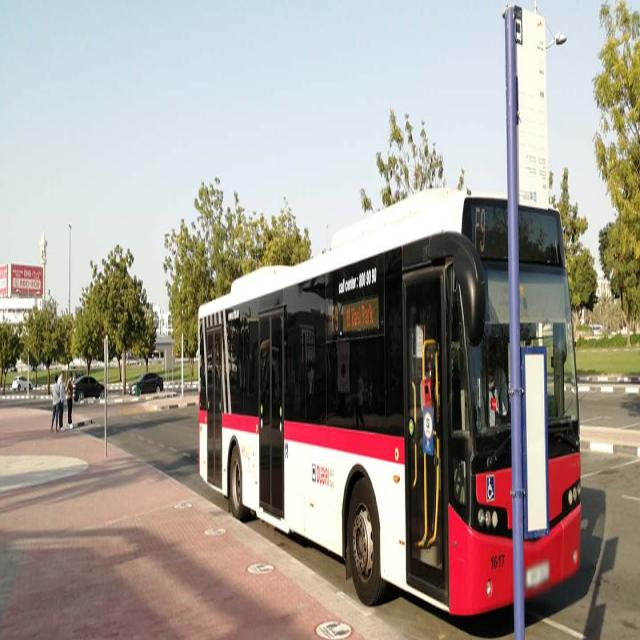bus: (197, 193, 579, 611)
